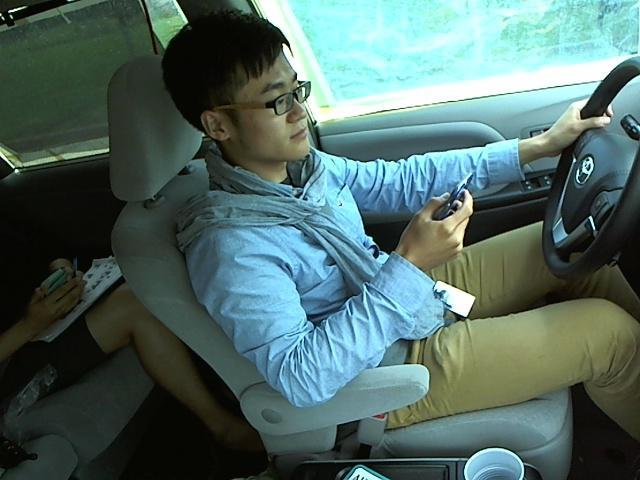PhoneUse: (428, 171, 476, 236)
